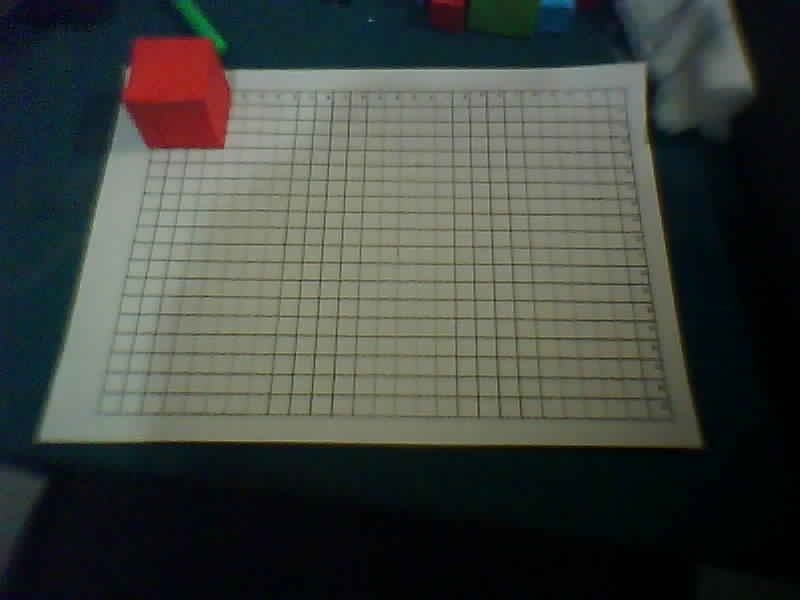LB: (91, 408, 99, 414)
LT: (151, 84, 159, 90)
RB: (670, 415, 678, 421)
RT: (622, 86, 630, 92)
